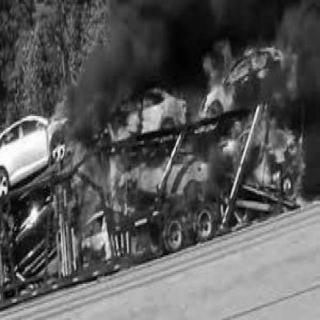Fire: (29, 27, 319, 260)
Smoke: (41, 0, 318, 136)
